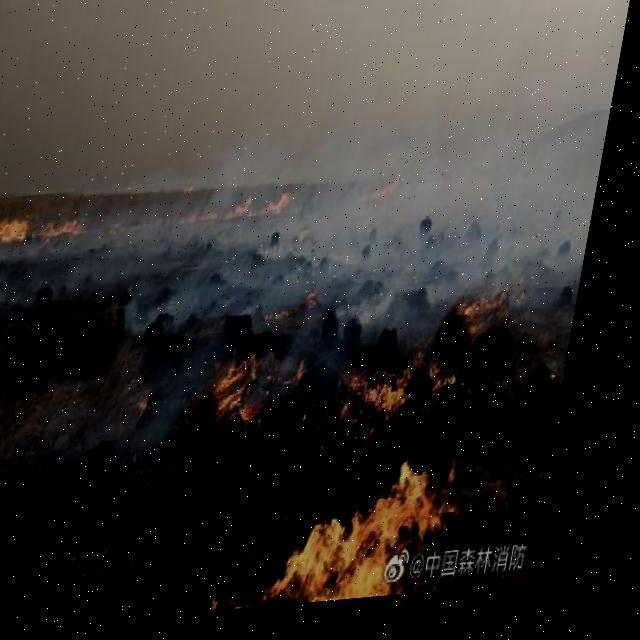Fire: (286, 475, 475, 605), (212, 339, 314, 432), (353, 355, 461, 440), (0, 198, 96, 251), (462, 291, 527, 357), (217, 190, 305, 227)
